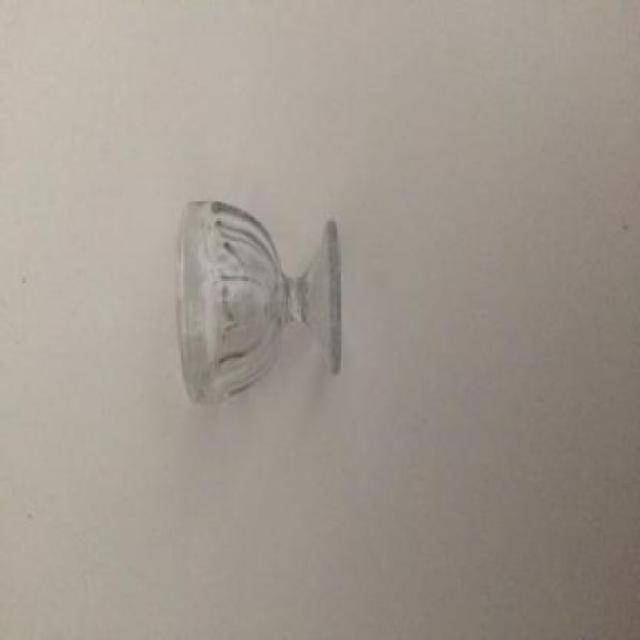kaca: (177, 200, 343, 403)
